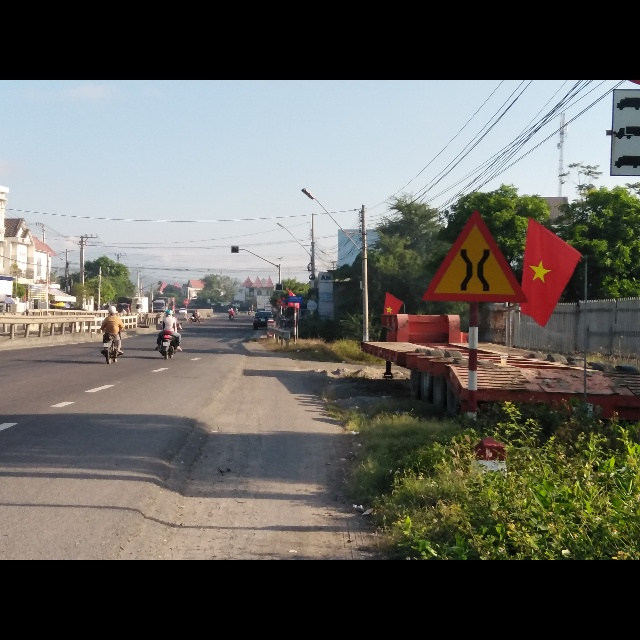Cầu hẹp: (423, 208, 529, 302)
